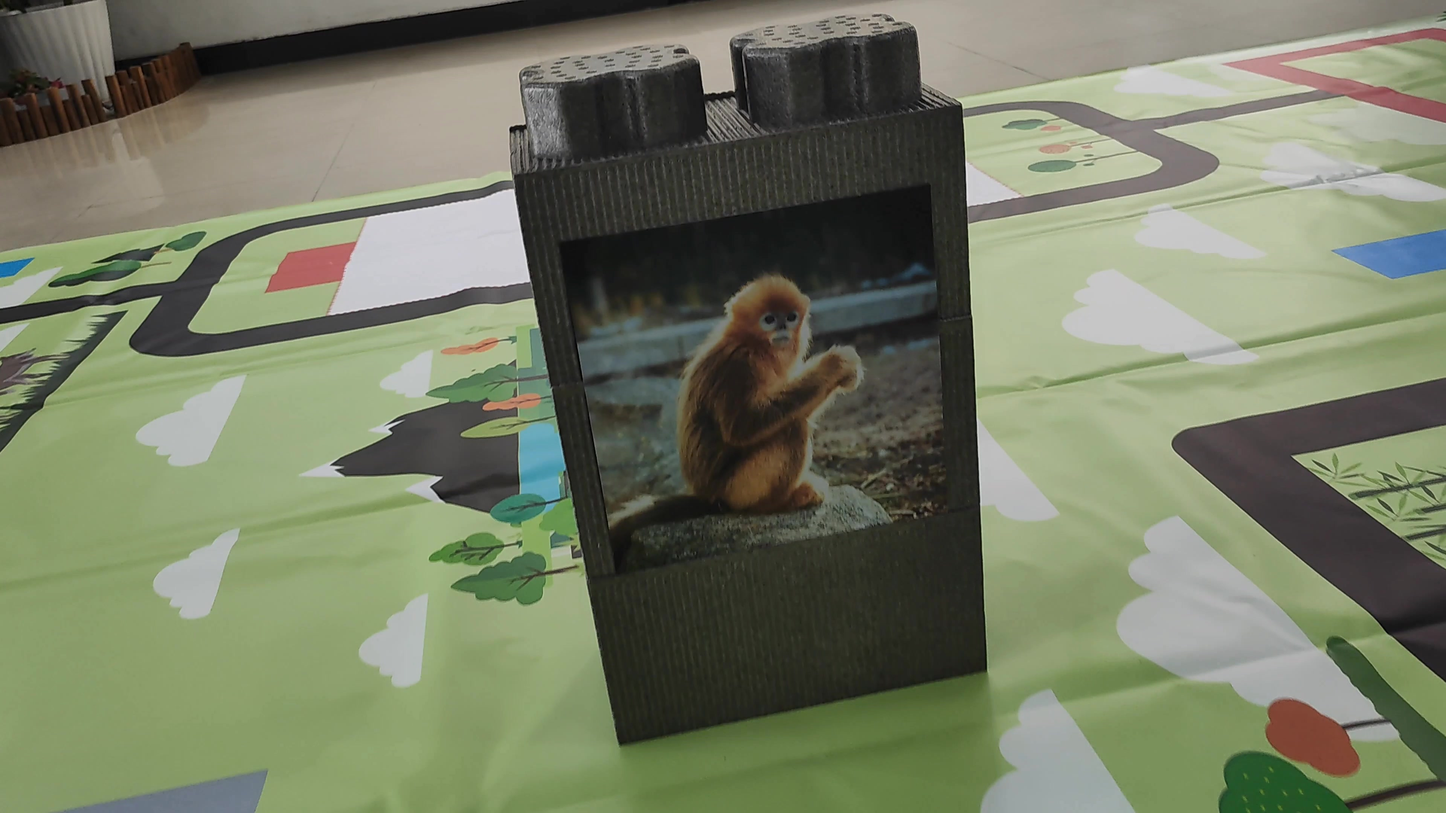monkey: (595, 221, 917, 527)
